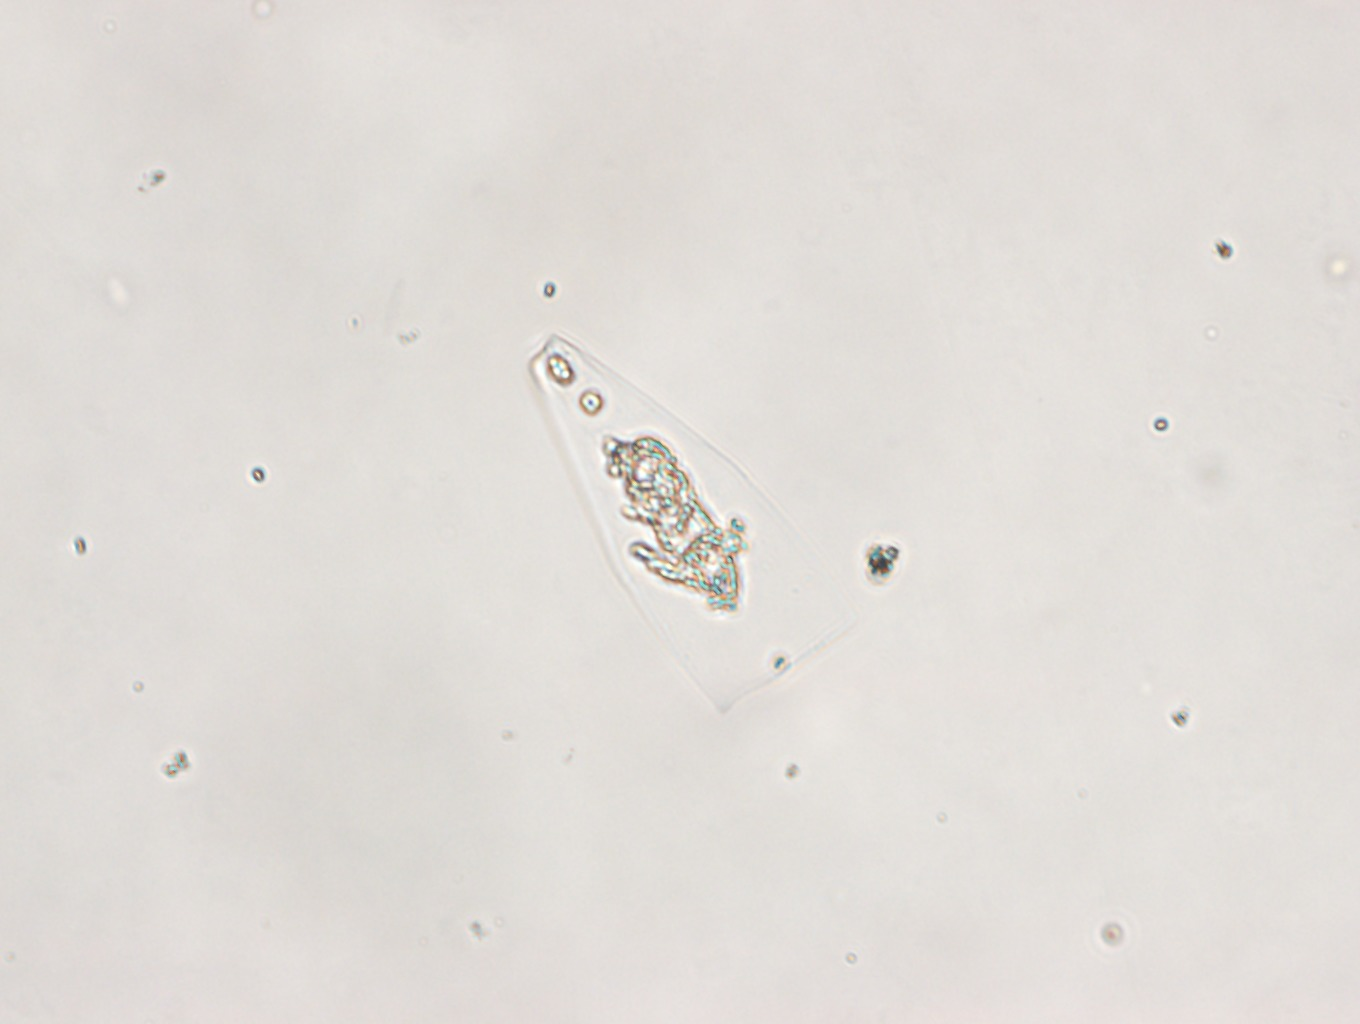helicotheca: (527, 335, 864, 717)
